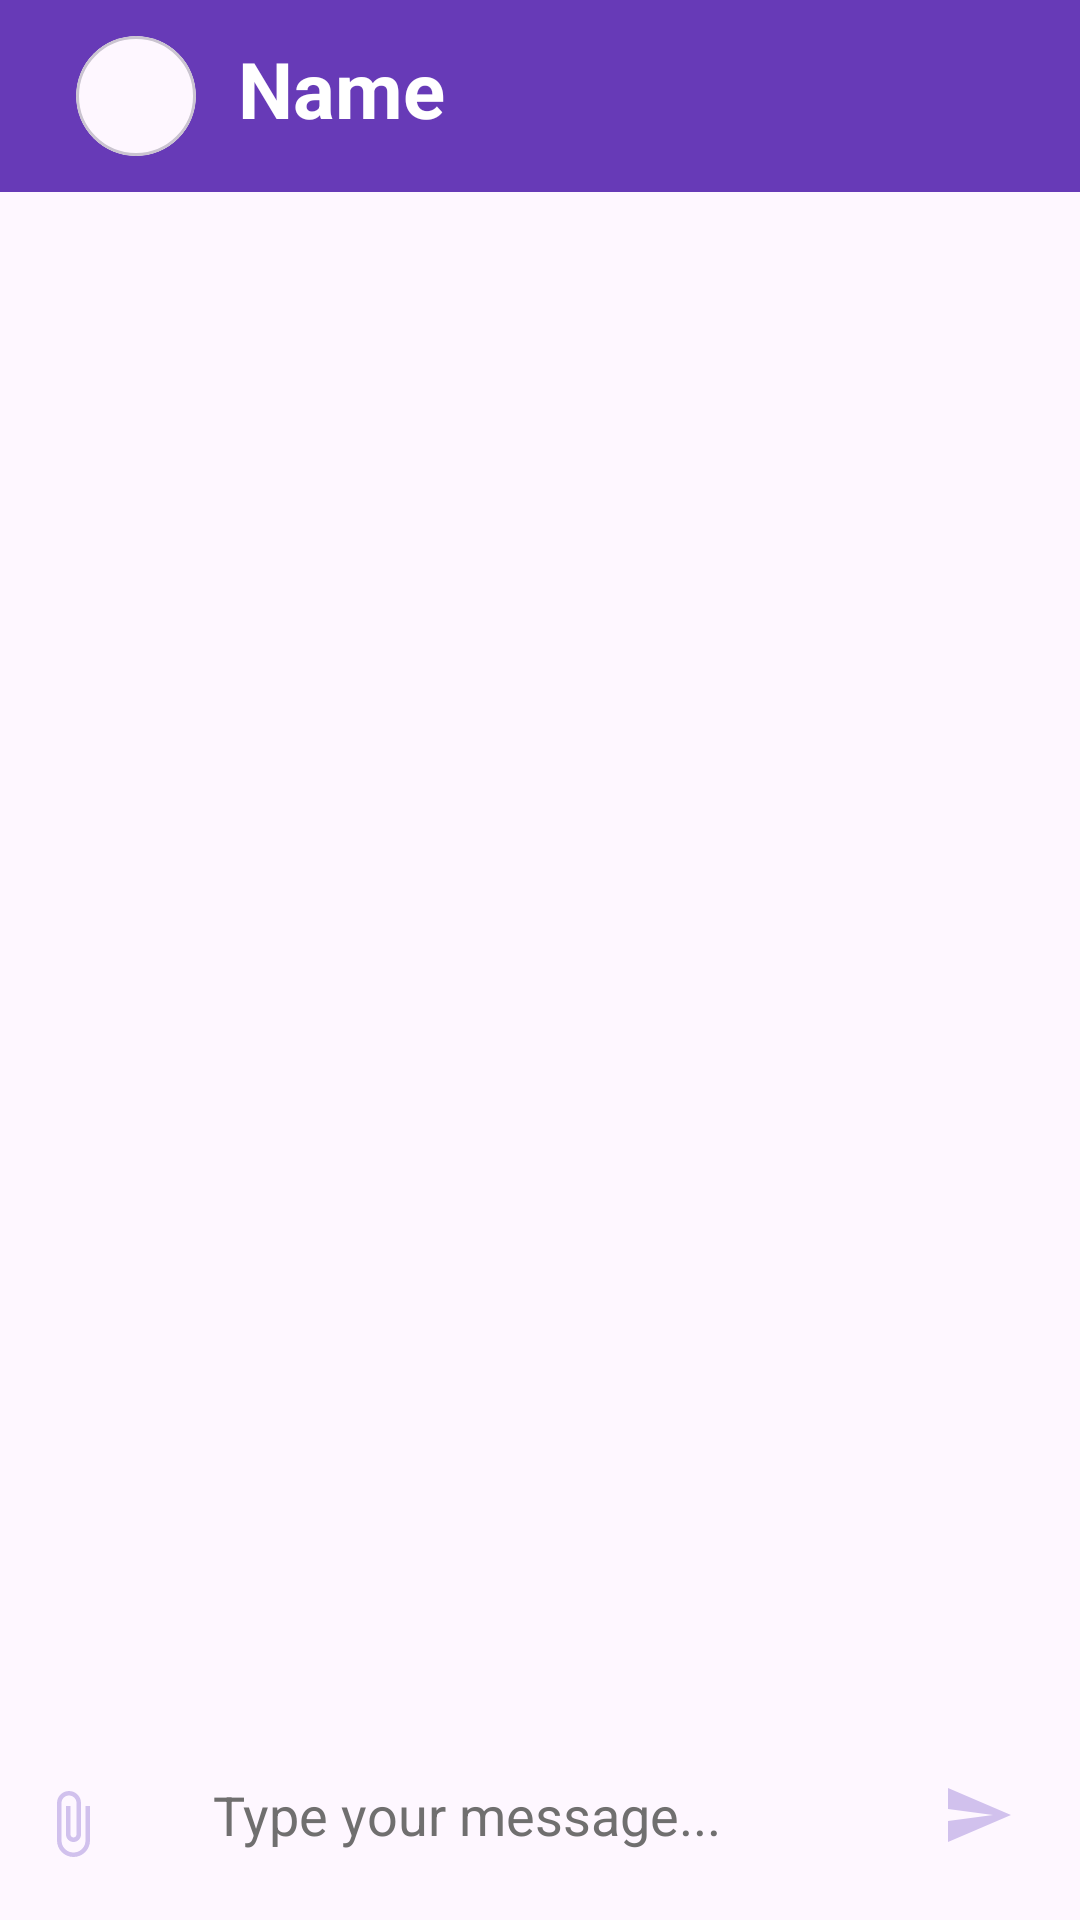

Icons on this 1080 x 1920 Android screen, each with the point to tap as point (x, y):
attach file: point (73, 1824)
send: point (979, 1815)
